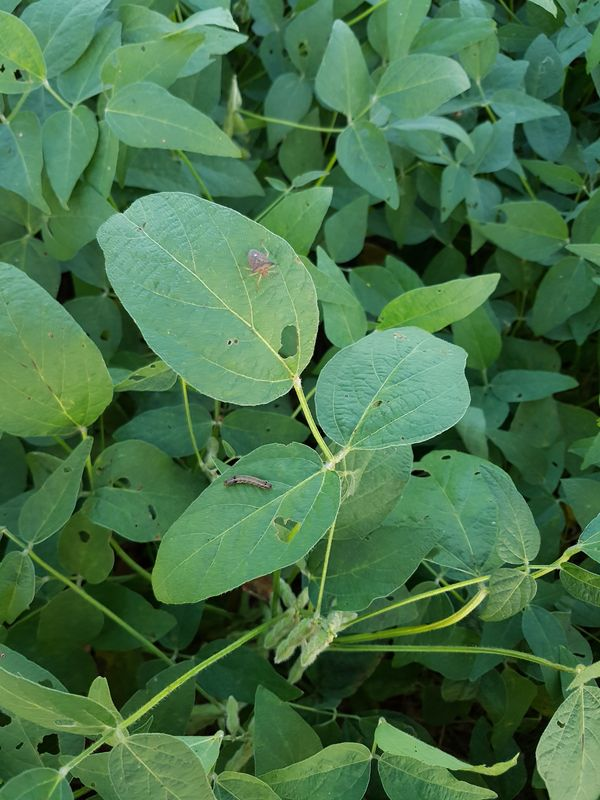Euschistus_heros_adulto: (230, 240, 287, 291)
Spodoptera_albula: (214, 464, 278, 504)
